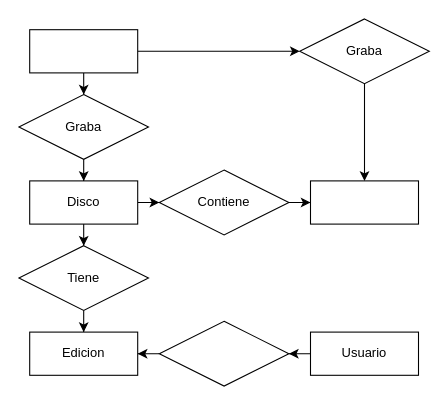
Image size: 448x405. Some labels were removed from this diagram. The centre of each missing label's shape, as x and y in pixels:
Artista: (x=83, y=51)
Canción: (x=363, y=202)
Posee: (x=223, y=353)
